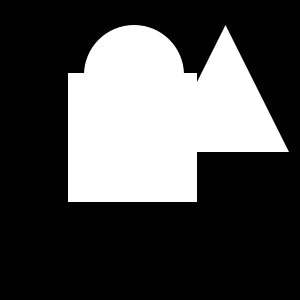circle: (68, 73, 197, 202)
rectangle: (84, 25, 184, 125)
triangle: (162, 25, 289, 152)
